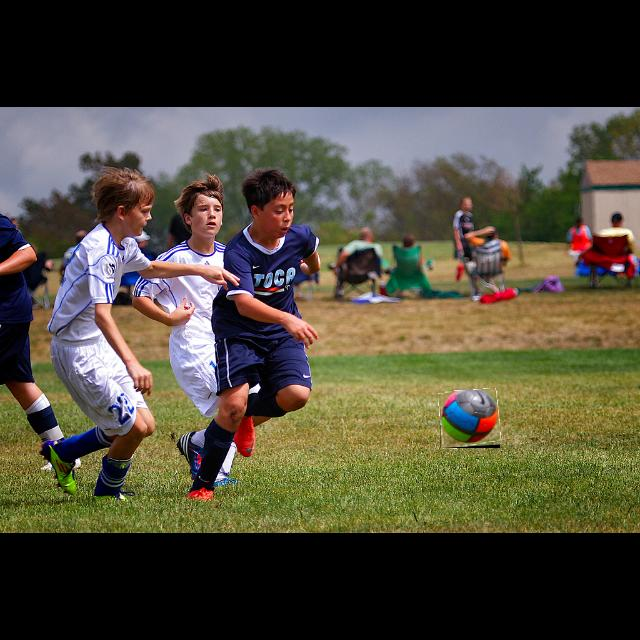Football: (440, 390, 500, 448)
